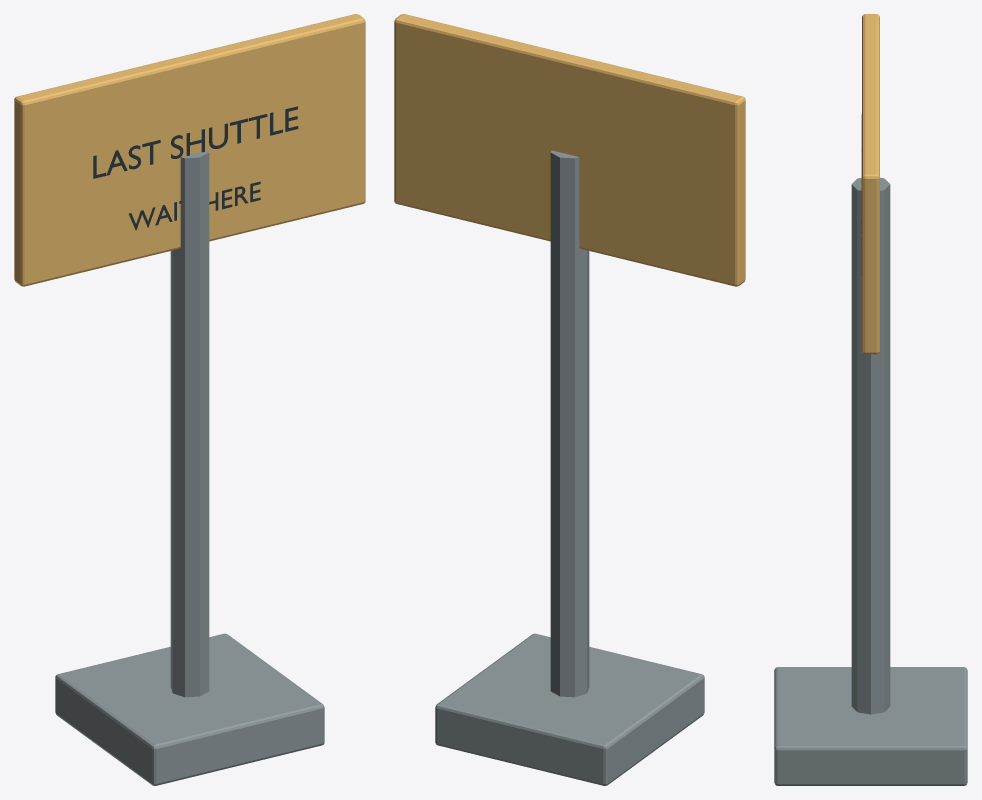
The model's file is AH03_ShuttleStop.fbx.
The picture shows the model from 3 angles, left to right: view 1: azimuth 30°, elevation 25°; view 2: azimuth 150°, elevation 25°; view 3: azimuth 270°, elevation 25°; orthographic projection. The views are drawn at different scales.
Parts seen in each view (by area): view 1: AH03_ShuttleStop_AH03_Gold, AH03_ShuttleStop_AH03_Metal, AH03_ShuttleStop_AH03_Dark; view 2: AH03_ShuttleStop_AH03_Gold, AH03_ShuttleStop_AH03_Metal; view 3: AH03_ShuttleStop_AH03_Metal, AH03_ShuttleStop_AH03_Gold.
Part boxes in pixels (x1,y1,x2,y2): AH03_ShuttleStop_AH03_Gold: (14, 14, 365, 286); AH03_ShuttleStop_AH03_Metal: (55, 150, 324, 785); AH03_ShuttleStop_AH03_Dark: (93, 106, 298, 230); AH03_ShuttleStop_AH03_Gold: (394, 14, 745, 286); AH03_ShuttleStop_AH03_Metal: (435, 150, 704, 785); AH03_ShuttleStop_AH03_Metal: (774, 177, 967, 785); AH03_ShuttleStop_AH03_Gold: (862, 14, 879, 354).
Size of the model in its own units: 140 by 261 by 70.
